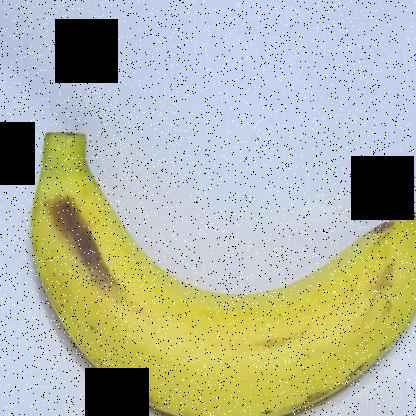freshripe: (21, 118, 415, 415)
